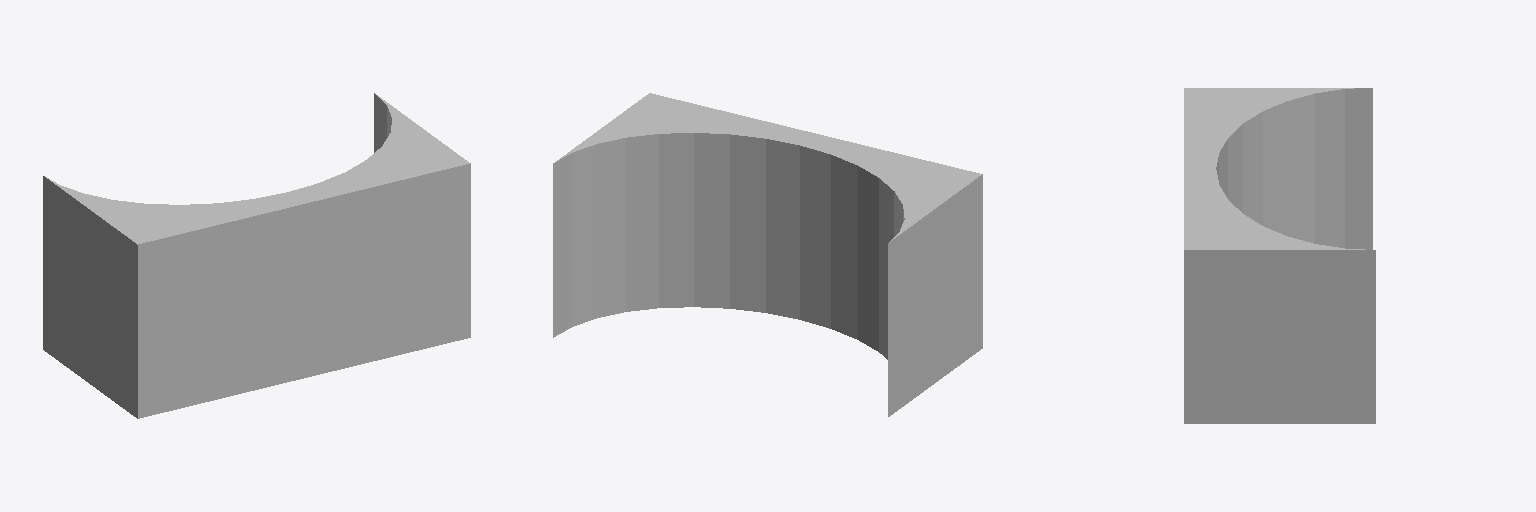
File: toyTunnel.obj
3 views of the same model, side by side, from view 1: azimuth 30°, elevation 25°; view 2: azimuth 150°, elevation 25°; view 3: azimuth 270°, elevation 25° (orthographic).
Parts seen in each view (by area): view 1: Cube; view 2: Cube; view 3: Cube.
Part boxes in pixels (x1,y1,x2,y2): Cube: (43, 93, 470, 418); Cube: (553, 93, 982, 416); Cube: (1184, 88, 1375, 423).
Size of the model in its own units: 4 by 2 by 2.